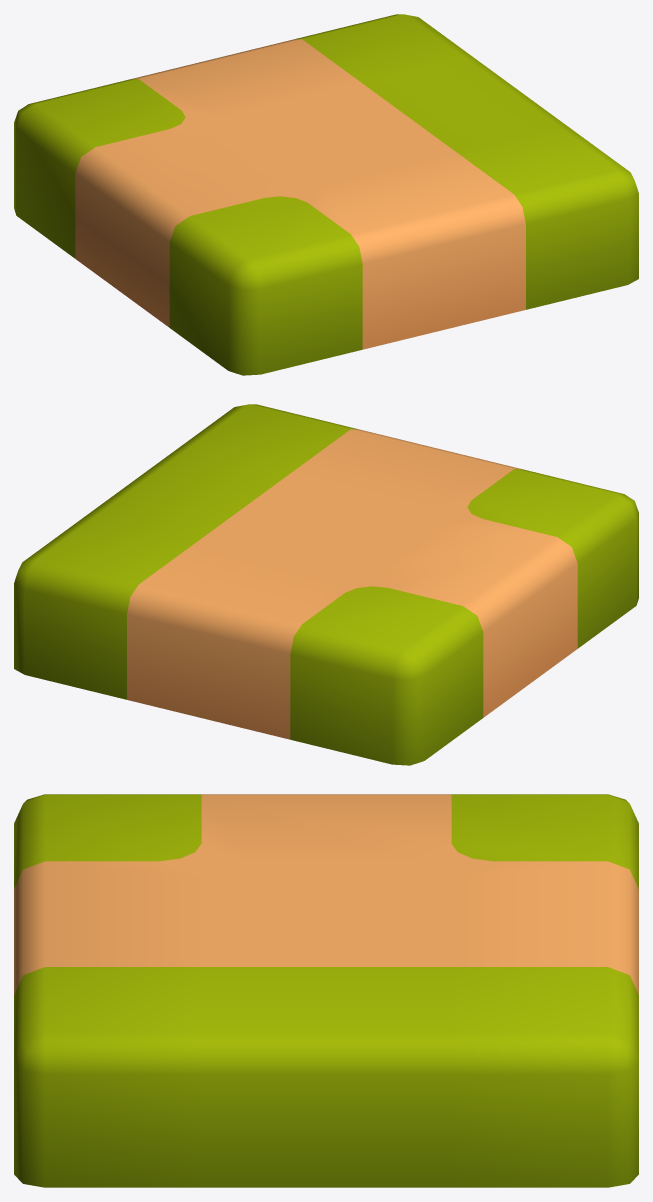
Rendered from 3D_Tile_Top_Path_03.fbx.
3 renders of one model, top to bottom at view 1: azimuth 30°, elevation 25°; view 2: azimuth 150°, elevation 25°; view 3: azimuth 270°, elevation 25°, orthographic. The views are drawn at different scales.
Parts seen in each view (by area): view 1: 3D_Tile_Top_Path_03; view 2: 3D_Tile_Top_Path_03; view 3: 3D_Tile_Top_Path_03.
Part boxes in pixels (bbox=[...]): 3D_Tile_Top_Path_03: bbox=[14, 14, 638, 375]; 3D_Tile_Top_Path_03: bbox=[14, 404, 638, 765]; 3D_Tile_Top_Path_03: bbox=[14, 794, 638, 1187].
Bounding box in the file's own units: 200 × 50 × 200.
